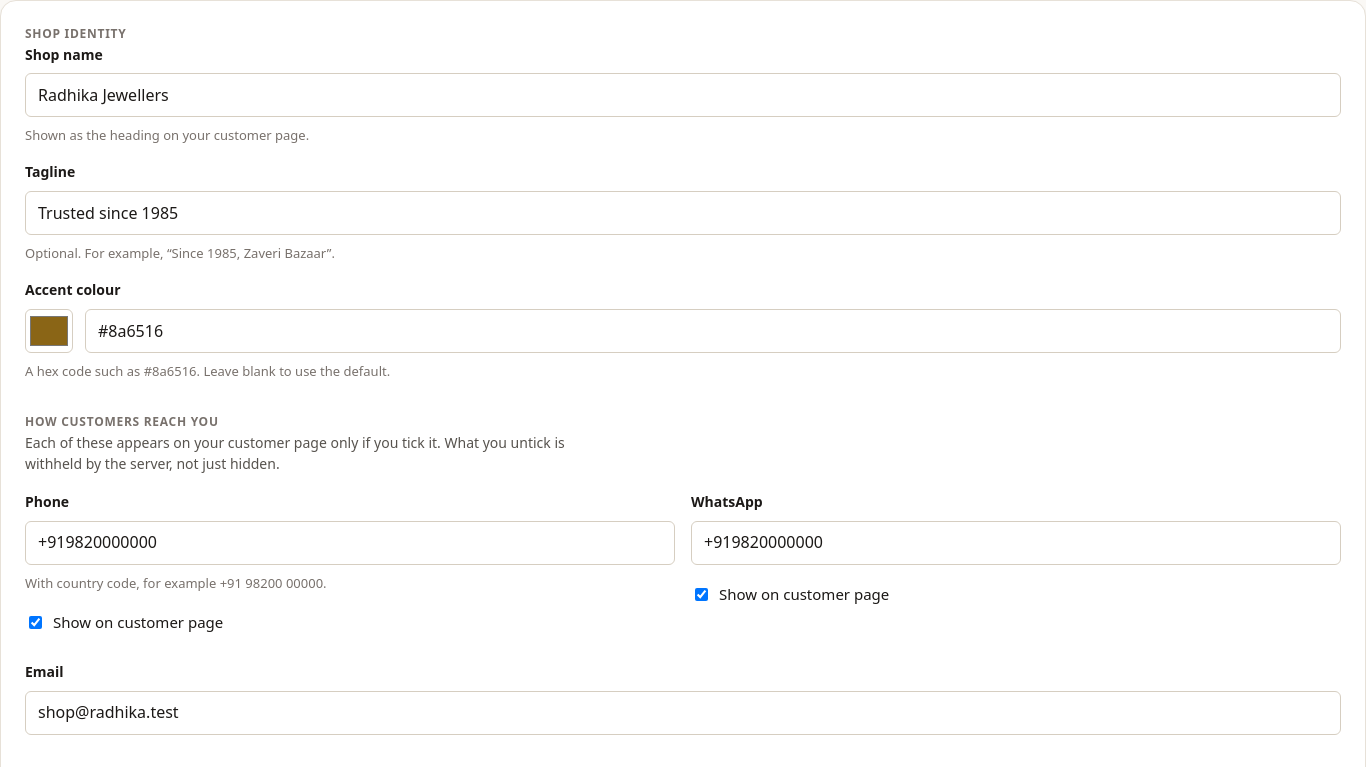
Test: editing shop details › Settings_afterSaving_reseedsFromTheServersAnswer
The width and height of the screenshot is (1366, 767).
Replace the text in the field labelled "Shop name" with "radhika gold house" at (683, 95), box [25, 73, 1341, 117]
(page scrolled)
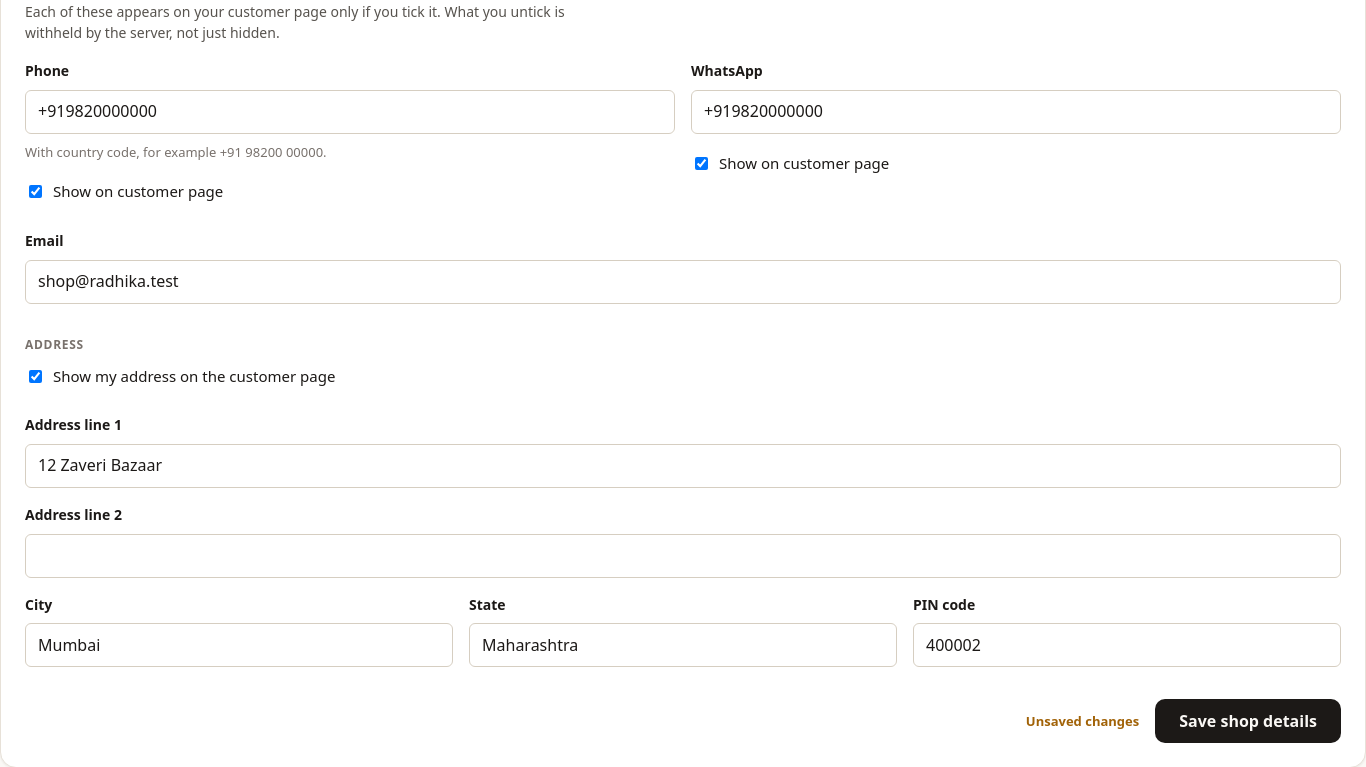
Click the button "Save shop details" at (1248, 721), box [1155, 699, 1341, 743]
(page scrolled)
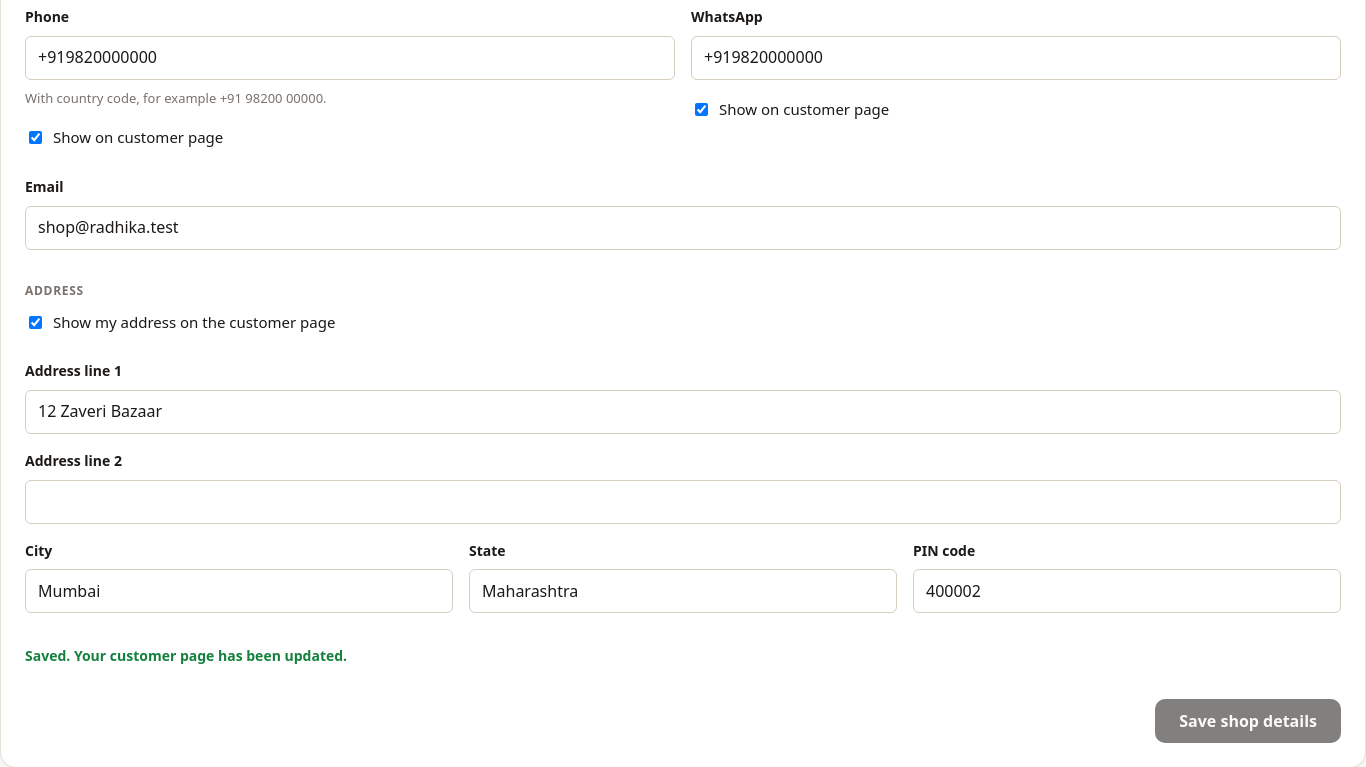
Expected: the text "Saved. Your customer page has been updated." is shown, [25, 646, 347, 665]
Expected: the button "Save shop details" is disabled, [1155, 699, 1341, 743]
